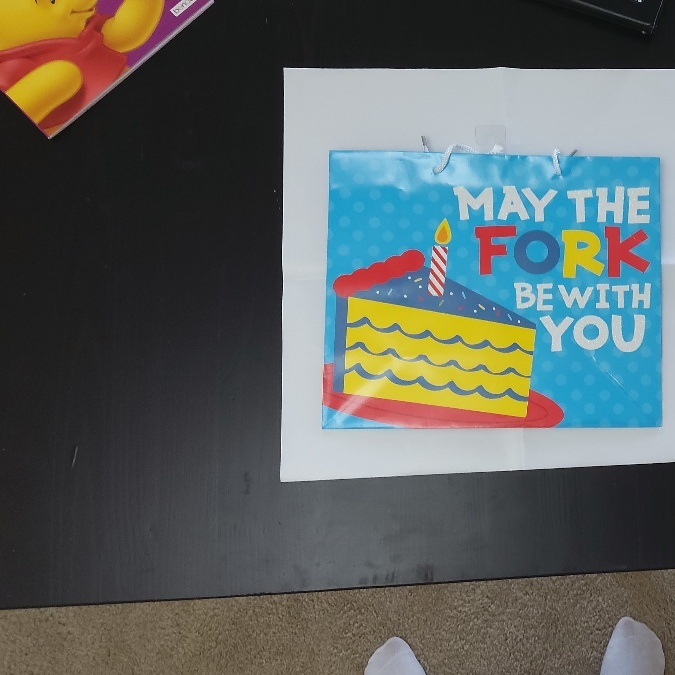paper_bag: (332, 152, 661, 426)
